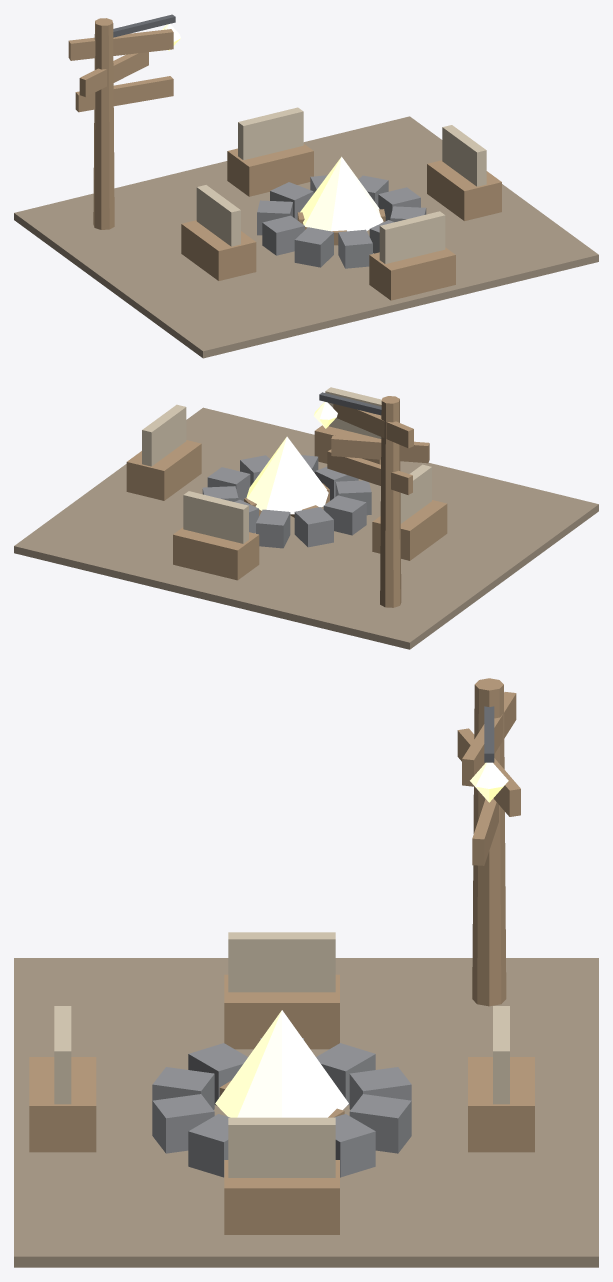
The model's file is prop_16_dalat_pine_homestay_wooden_signpost_and_campfire_set.glb.
3 views of the same model, one above another, from view 1: azimuth 30°, elevation 25°; view 2: azimuth 150°, elevation 25°; view 3: azimuth 270°, elevation 25° (orthographic). The views are drawn at different scales.
Parts seen in each view (by area): view 1: prop_16_dalat_pine_homestay_wooden_signpost_and_campfire_set; view 2: prop_16_dalat_pine_homestay_wooden_signpost_and_campfire_set; view 3: prop_16_dalat_pine_homestay_wooden_signpost_and_campfire_set.
Boxes of the visible parts, x1=… form: prop_16_dalat_pine_homestay_wooden_signpost_and_campfire_set: x1=14, y1=14, x2=598, y2=358; prop_16_dalat_pine_homestay_wooden_signpost_and_campfire_set: x1=14, y1=387, x2=598, y2=649; prop_16_dalat_pine_homestay_wooden_signpost_and_campfire_set: x1=14, y1=678, x2=598, y2=1267.
Bounding box in the file's own units: 5.8 × 2.95 × 4.8.
